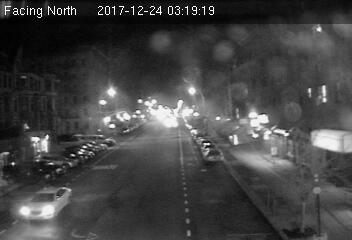car: (20, 183, 72, 221), (202, 148, 224, 164)
